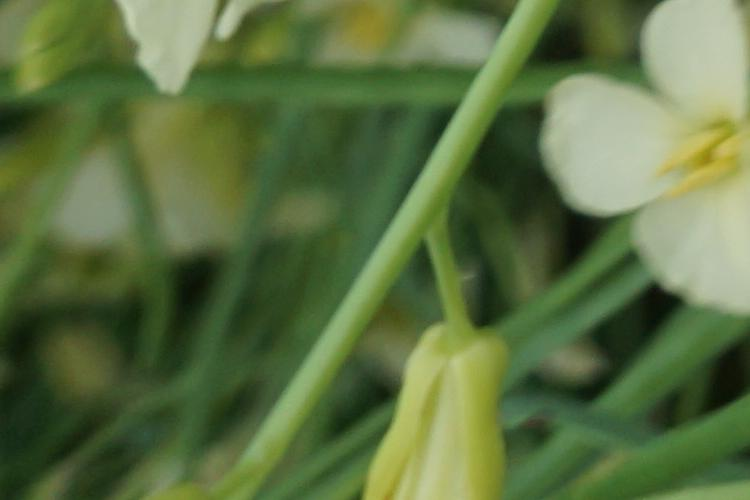white: (564, 38, 750, 327)
